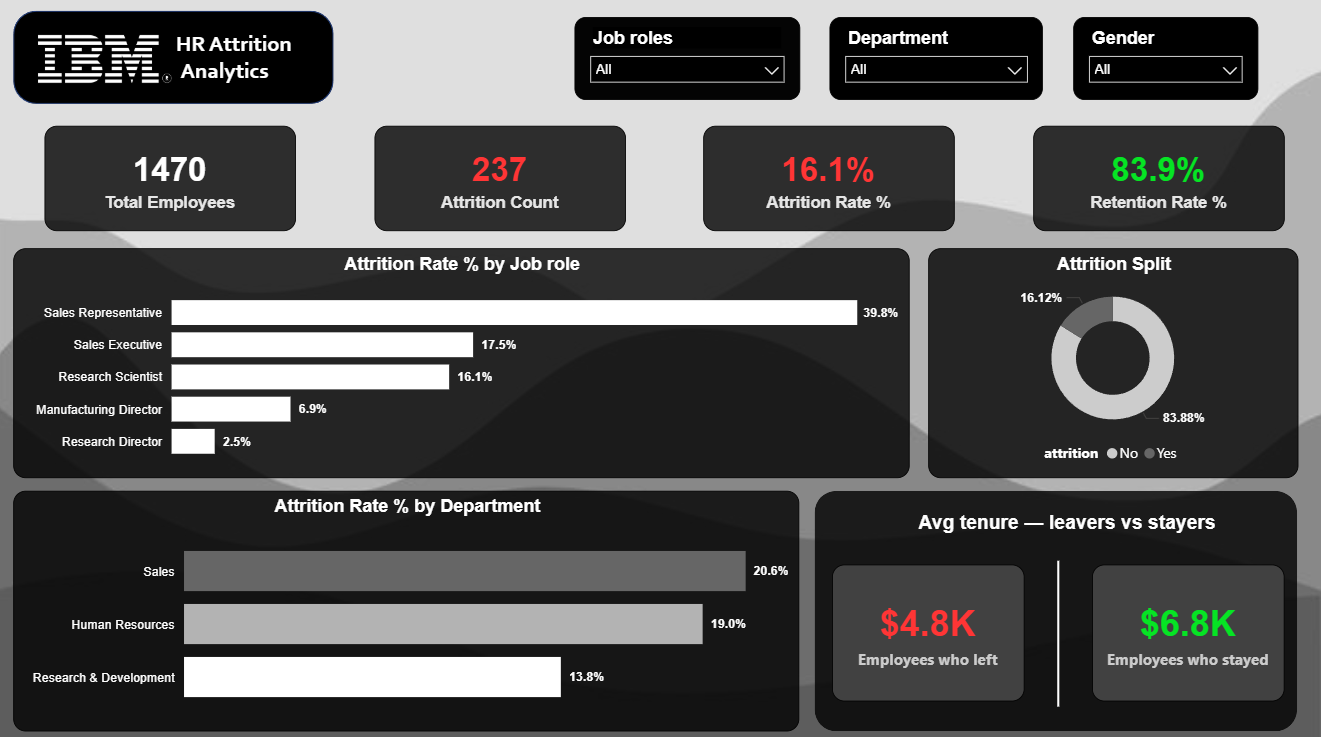

The page's visual inventory and layout, read from the dashboard file:
{"tool":"powerbi","page":{"name":"Overview","canvas":[1280,720],"ordinal":0},"visuals":[{"type":"shape","box":[15.9,13,308.7,89.9],"z":0},{"type":"image","box":[38.2,25,130.9,69.1],"z":1000},{"type":"card","fields":{"Values":["_Measures.Total Employees"]},"box":[46.4,124.6,242,101.4],"z":2000},{"type":"card","fields":{"Values":["_Measures.Attrition Count"]},"box":[363.8,124.6,242,101.4],"z":3000},{"type":"card","fields":{"Values":["_Measures.Attrition Rate %"]},"box":[681.2,124.6,242,101.4],"z":4000},{"type":"card","fields":{"Values":["_Measures.Retention Rate %"]},"box":[998.6,124.6,242,101.4],"z":5000},{"type":"clusteredBarChart","title":"Attrition Rate % by Department","fields":{"Category":["clean_hr_analytics.department"],"Y":["_Measures.Attrition Rate %"]},"box":[15.9,475.4,758,231.9],"z":6000},{"type":"donutChart","title":"Attrition Split","fields":{"Category":["clean_hr_analytics.attrition"],"Y":["_Measures.Total Employees"]},"box":[897.1,242,356.5,221.7],"z":7000},{"type":"barChart","title":"Attrition Rate % by Job role","fields":{"Category":["clean_hr_analytics.job_role"],"Y":["_Measures.Attrition Rate %"]},"box":[15.9,242,863.8,221.7],"z":8000},{"type":"shape","box":[788.4,475.4,465.2,231.9],"z":9000},{"type":"textbox","box":[882.6,491.3,314.5,44.9],"z":10000},{"type":"card","fields":{"Values":["_Measures.Avg Tenure Leavers"]},"box":[804.3,547.4,185.5,131.9],"z":11000},{"type":"shape","box":[911.6,543,221.7,140.6],"z":12000},{"type":"card","fields":{"Values":["_Measures.Avg Tenure Stayers"]},"box":[1055.1,547.4,185.5,131.9],"z":13000},{"type":"slicer","fields":{"Values":["clean_hr_analytics.department"]},"box":[802.9,18.8,205.8,79.7],"z":14000},{"type":"slicer","fields":{"Values":["clean_hr_analytics.job_role"]},"box":[556.5,18.8,217.4,79.7],"z":15000},{"type":"slicer","fields":{"Values":["clean_hr_analytics.gender"]},"box":[1037.7,18.8,178.3,79.7],"z":16000},{"type":"textbox","box":[167.6,27.9,195.6,70.6],"z":17000}]}

Visuals, with their boxes in screenshot pixels (x1, y1, x2, y2), scaled from the page's 1280x720 canvas onto the 1321x737 screenshot:
shape: left=16, top=13, right=335, bottom=105
image: left=39, top=26, right=175, bottom=96
card - _Measures.Total Employees: left=48, top=128, right=298, bottom=231
card - _Measures.Attrition Count: left=375, top=128, right=625, bottom=231
card - _Measures.Attrition Rate %: left=703, top=128, right=953, bottom=231
card - _Measures.Retention Rate %: left=1031, top=128, right=1280, bottom=231
"Attrition Rate % by Department" clusteredBarChart: left=16, top=487, right=799, bottom=724
"Attrition Split" donutChart: left=926, top=248, right=1294, bottom=475
"Attrition Rate % by Job role" barChart: left=16, top=248, right=908, bottom=475
shape: left=814, top=487, right=1294, bottom=724
textbox: left=911, top=503, right=1235, bottom=549
card - _Measures.Avg Tenure Leavers: left=830, top=560, right=1022, bottom=695
shape: left=941, top=556, right=1170, bottom=700
card - _Measures.Avg Tenure Stayers: left=1089, top=560, right=1280, bottom=695
slicer - clean_hr_analytics.department: left=829, top=19, right=1041, bottom=101
slicer - clean_hr_analytics.job_role: left=574, top=19, right=799, bottom=101
slicer - clean_hr_analytics.gender: left=1071, top=19, right=1255, bottom=101
textbox: left=173, top=29, right=375, bottom=101
